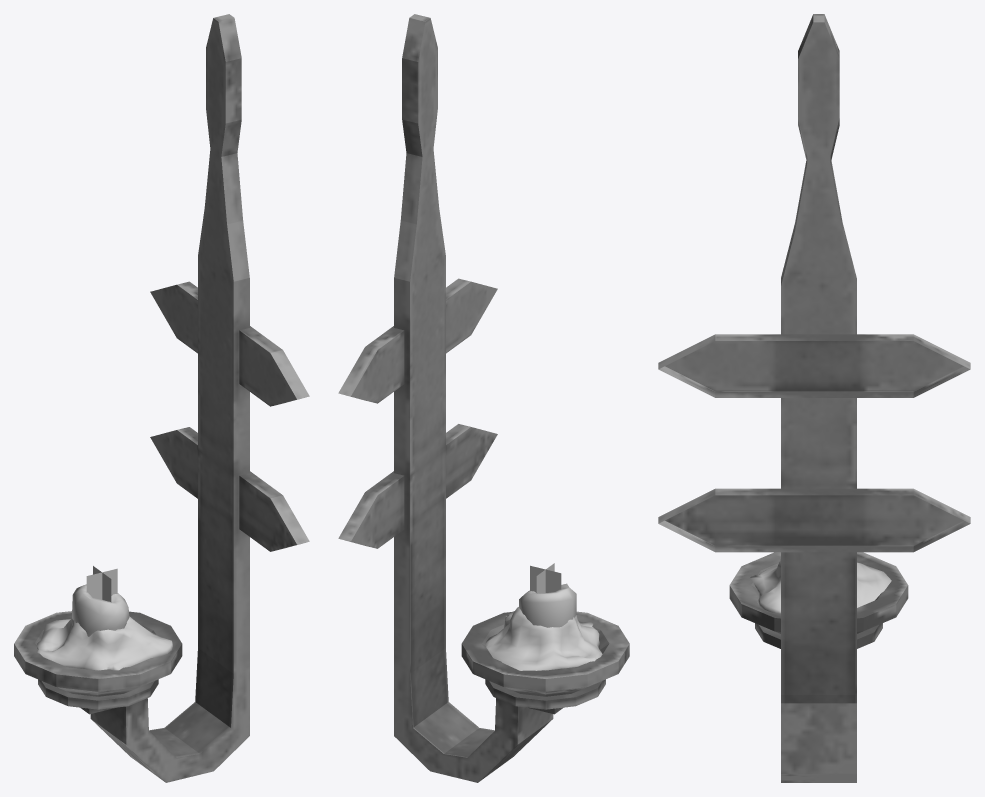
File: SM_candlestick_03.fbx
3 views of the same model, side by side, from view 1: azimuth 30°, elevation 25°; view 2: azimuth 150°, elevation 25°; view 3: azimuth 270°, elevation 25° (orthographic). The views are drawn at different scales.
Parts seen in each view (by area): view 1: SM_candlestick_03_LOD0; view 2: SM_candlestick_03_LOD0; view 3: SM_candlestick_03_LOD0.
Boxes of the visible parts, x1,y1,x2,y2 form: SM_candlestick_03_LOD0: (14, 14, 309, 782); SM_candlestick_03_LOD0: (338, 14, 629, 782); SM_candlestick_03_LOD0: (658, 14, 970, 782).
Size of the model in its own units: 19.65 by 23.97 by 65.95.
